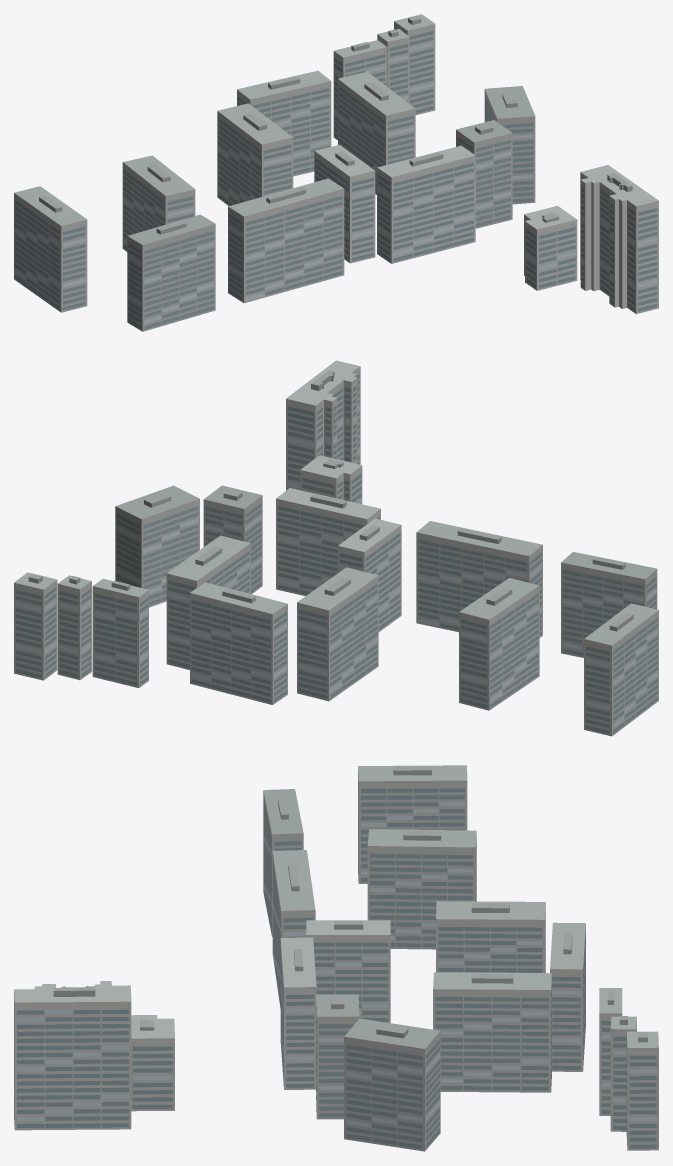
The model's file is apt-a12017001.glb.
3 views of the same model, one above another, from view 1: azimuth 30°, elevation 25°; view 2: azimuth 150°, elevation 25°; view 3: azimuth 270°, elevation 25° (orthographic). The views are drawn at different scales.
Visible parts, largest first — view 1: apt-a12017001; view 2: apt-a12017001; view 3: apt-a12017001.
Part boxes in pixels (x1,y1,x2,y2): apt-a12017001: (14,14,658,331); apt-a12017001: (14,360,658,736); apt-a12017001: (14,765,658,1151).
Bounding box in the file's own units: 232 × 51 × 223.
